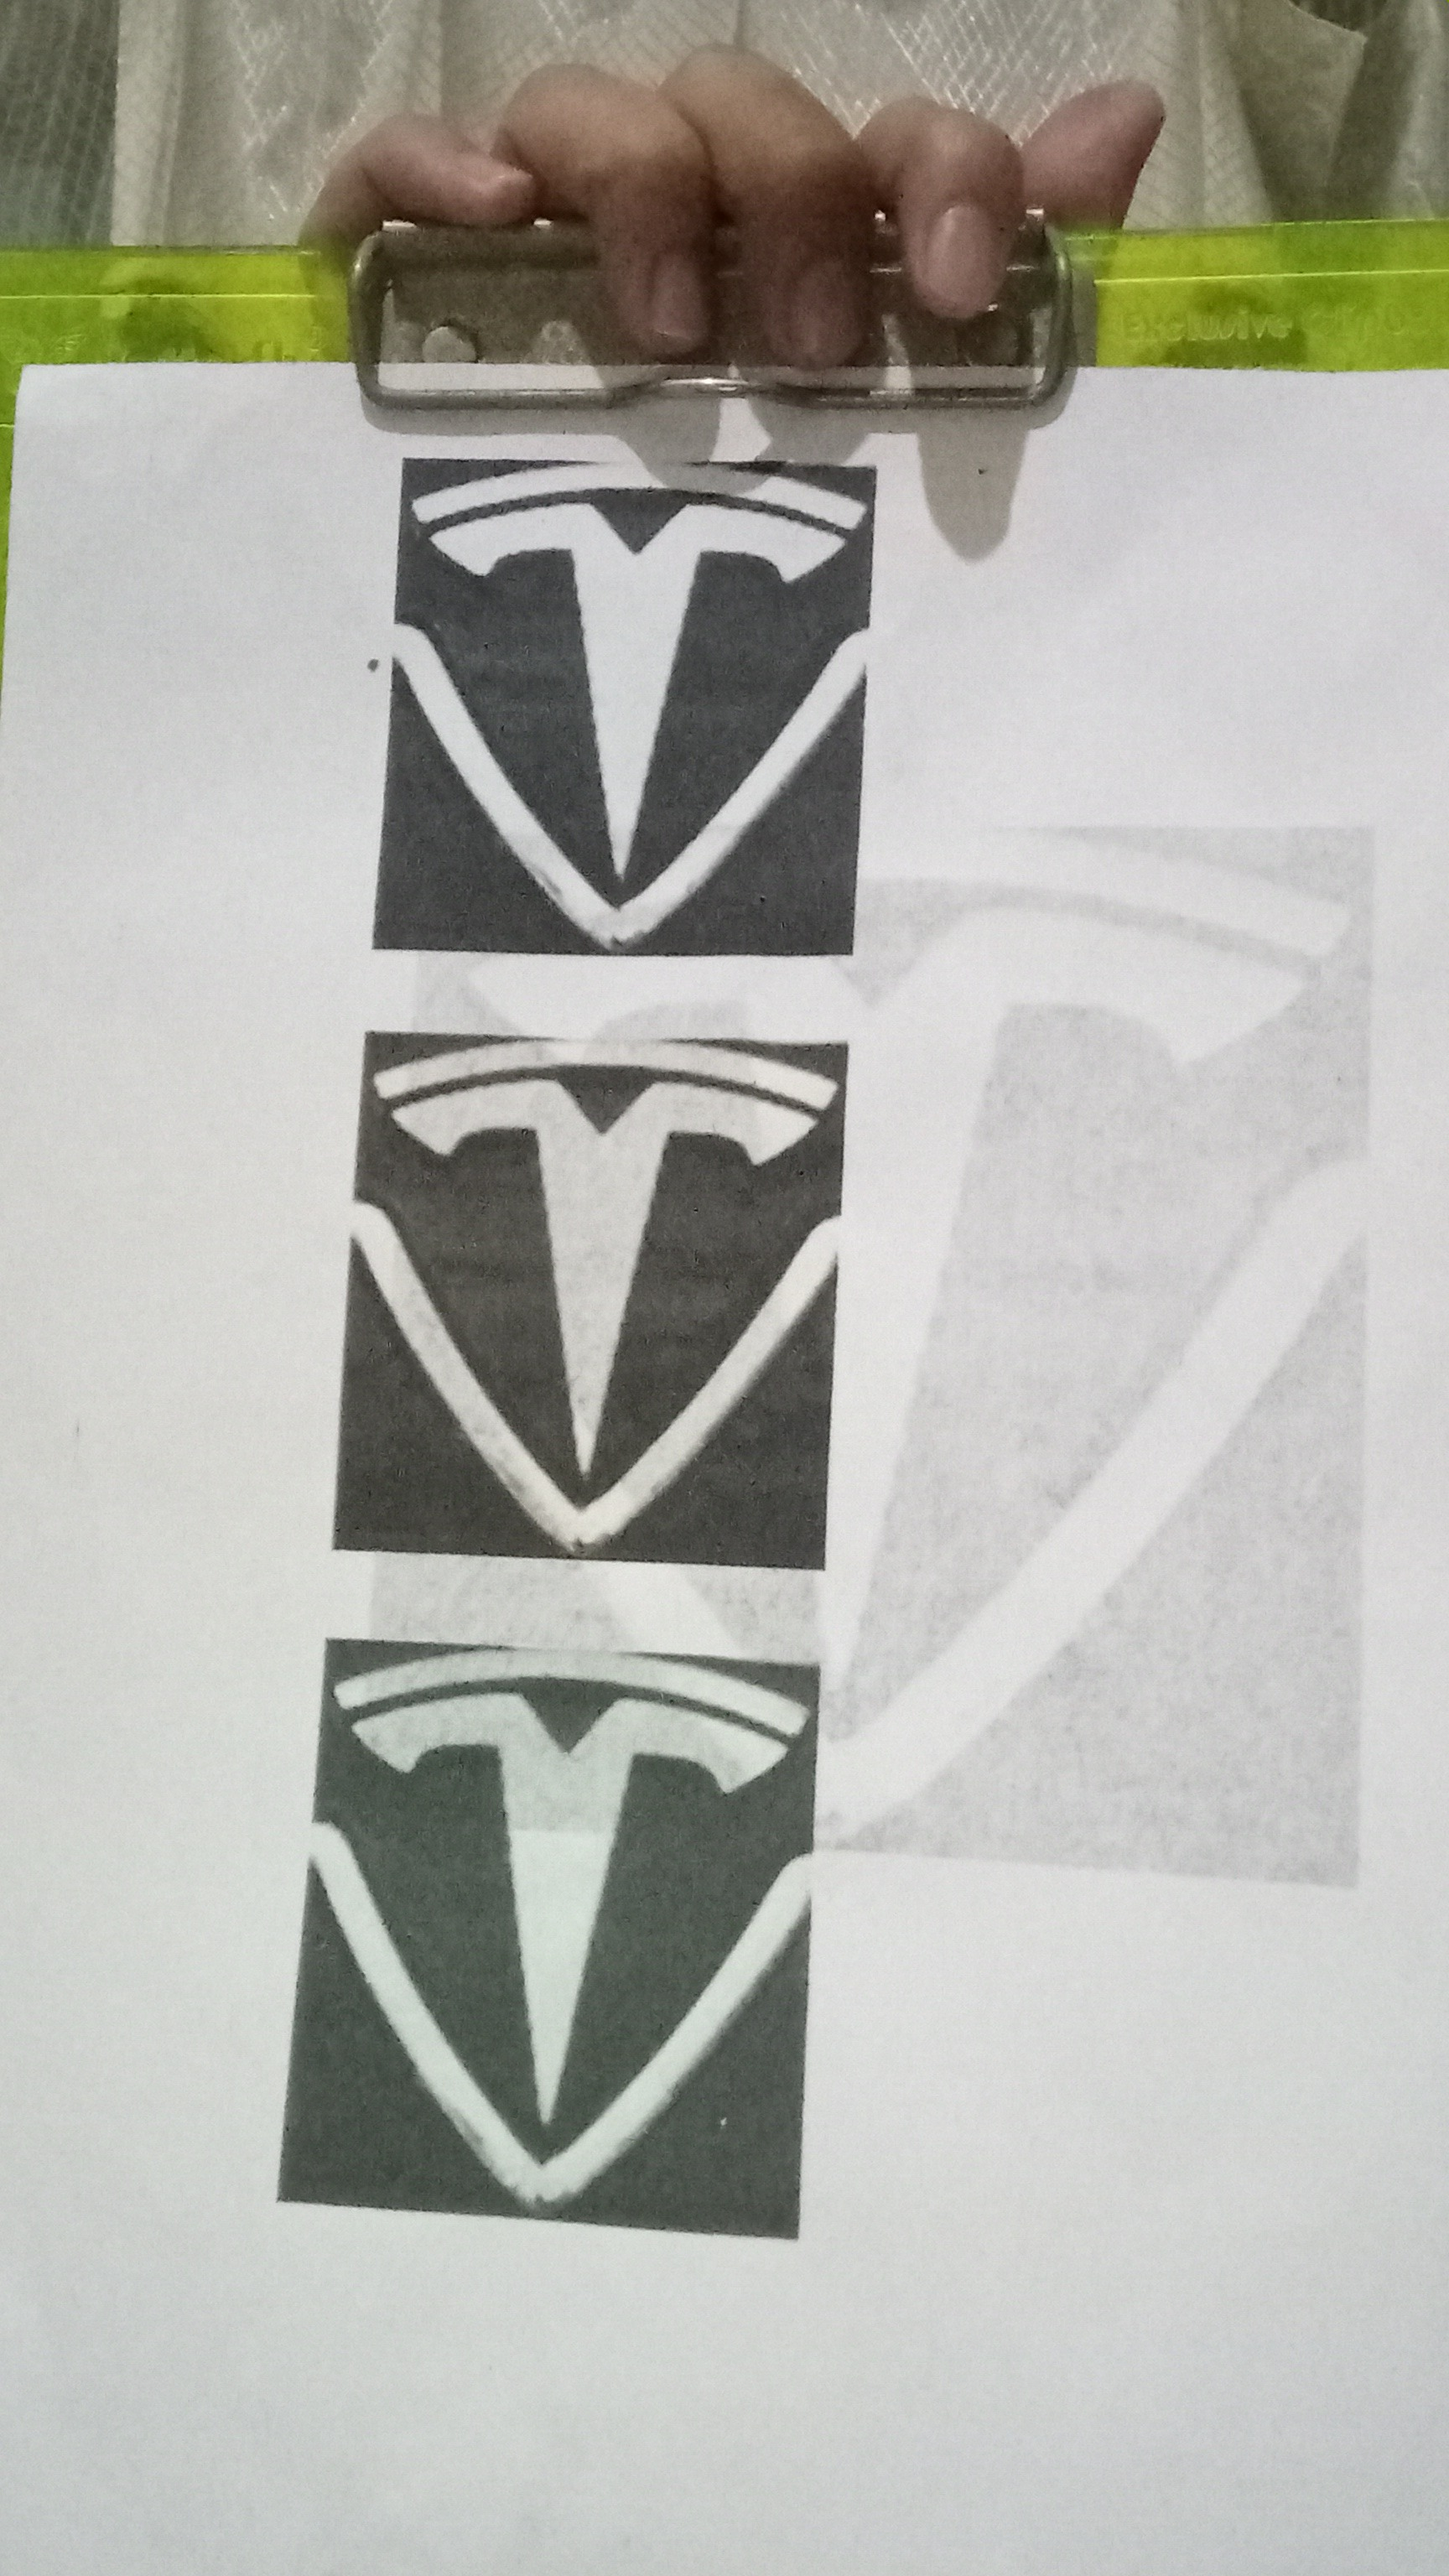Tesla: (301, 1642, 816, 2226), (354, 1031, 840, 1566), (393, 451, 872, 959)
